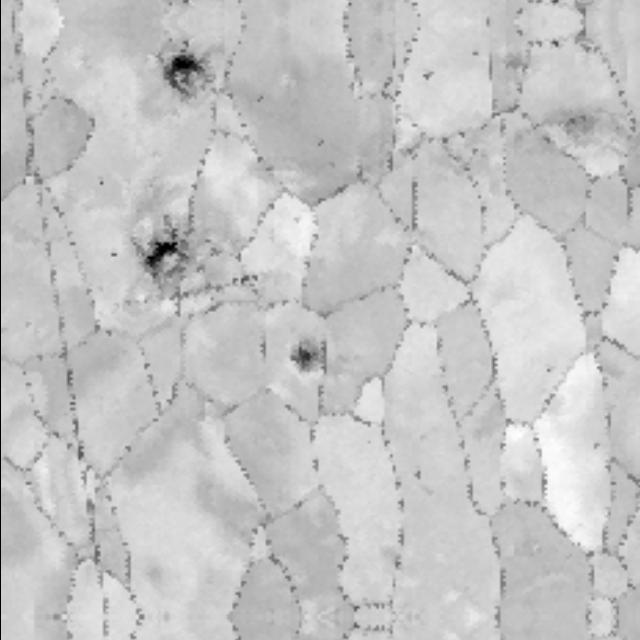good_void: (124, 210, 222, 307), (152, 34, 224, 107), (533, 92, 625, 149), (279, 330, 323, 384), (417, 54, 444, 96), (247, 78, 273, 112), (306, 127, 336, 156), (407, 462, 427, 492), (92, 172, 112, 198), (106, 247, 120, 264)
